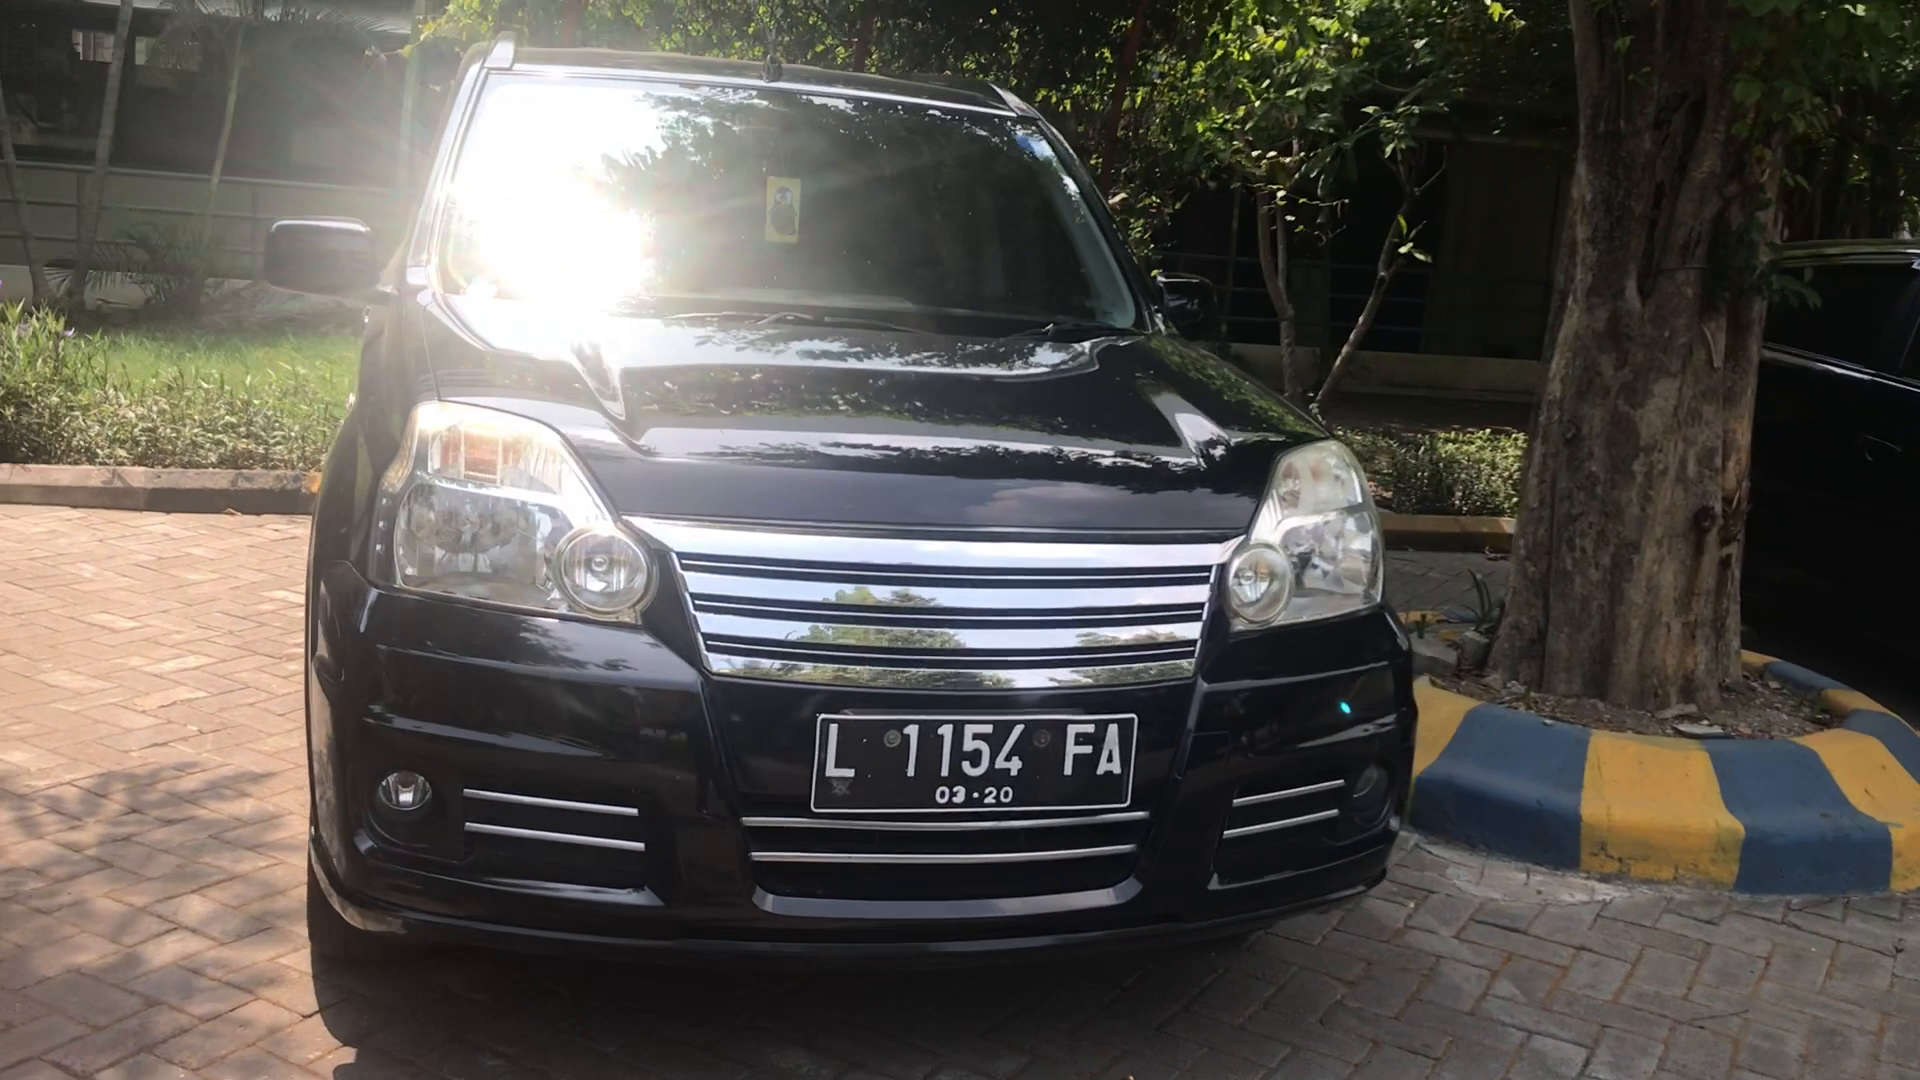plate: (812, 712, 1140, 822)
